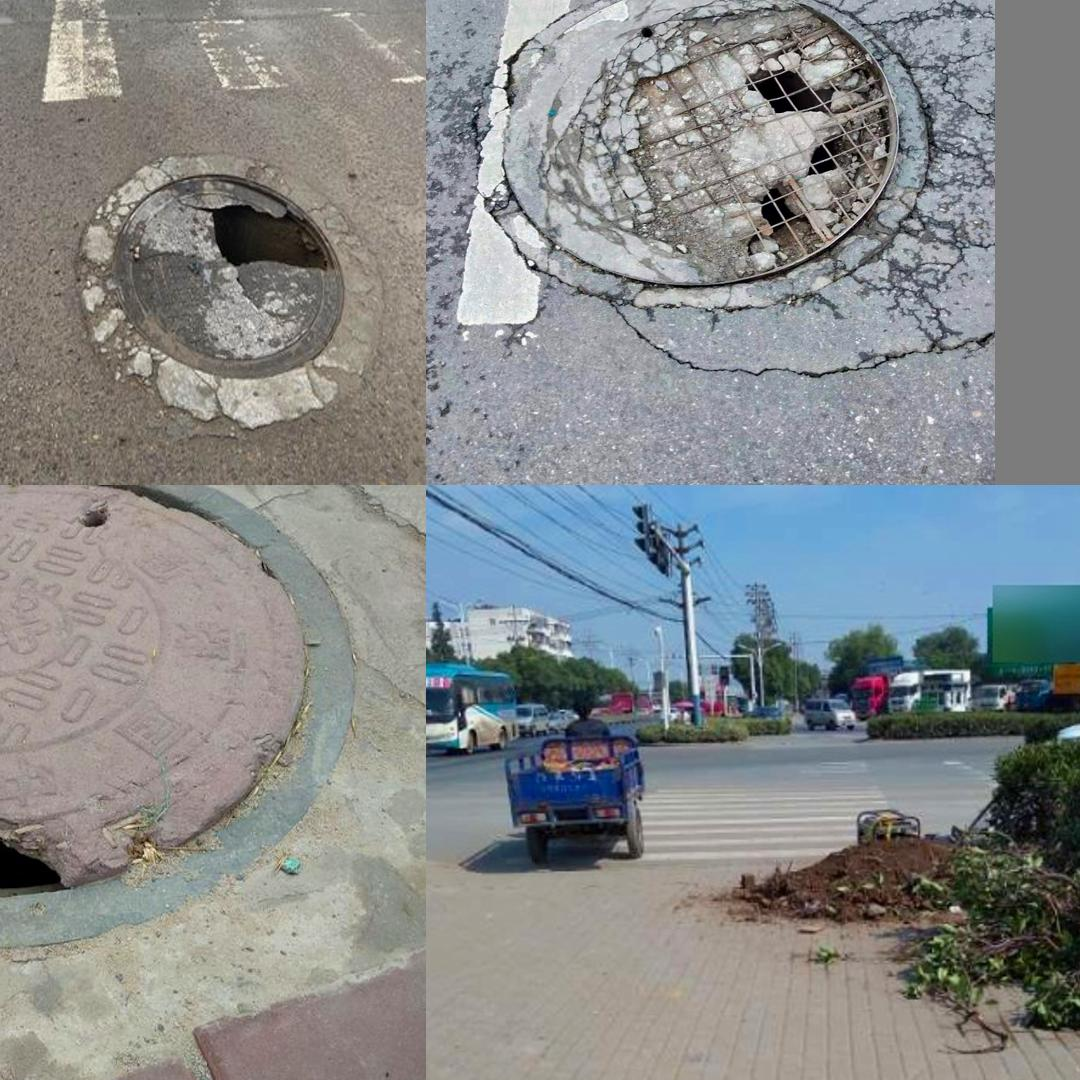broke: (0, 488, 342, 941), (480, 0, 902, 295), (70, 135, 400, 436)
